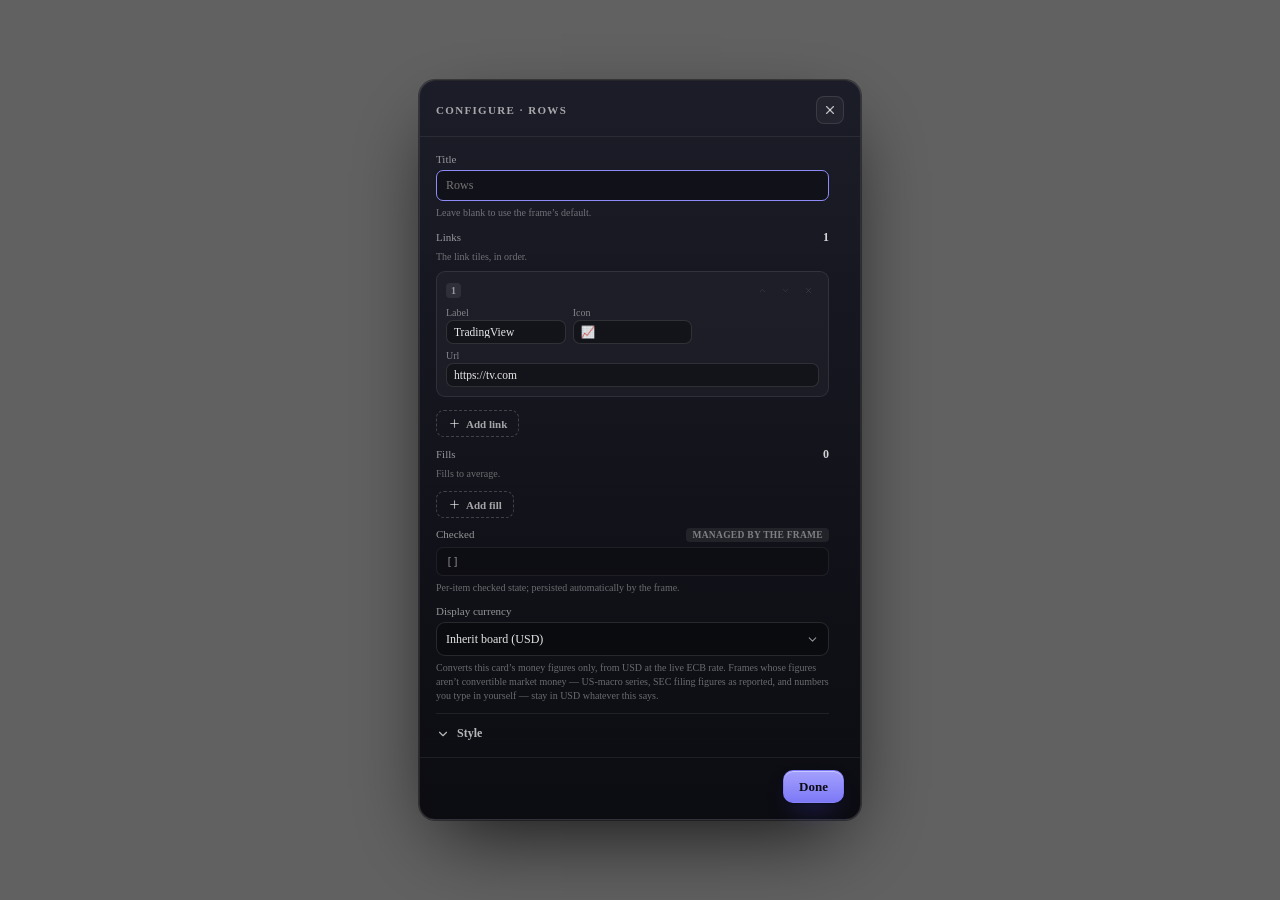
Test: per-field validation messages › reports a nested row issue on the row editor that owns it
Clear the field with id "zf-cfg-links-0-label": x=506, y=332 [446,320,566,344]
Wait 200 ms
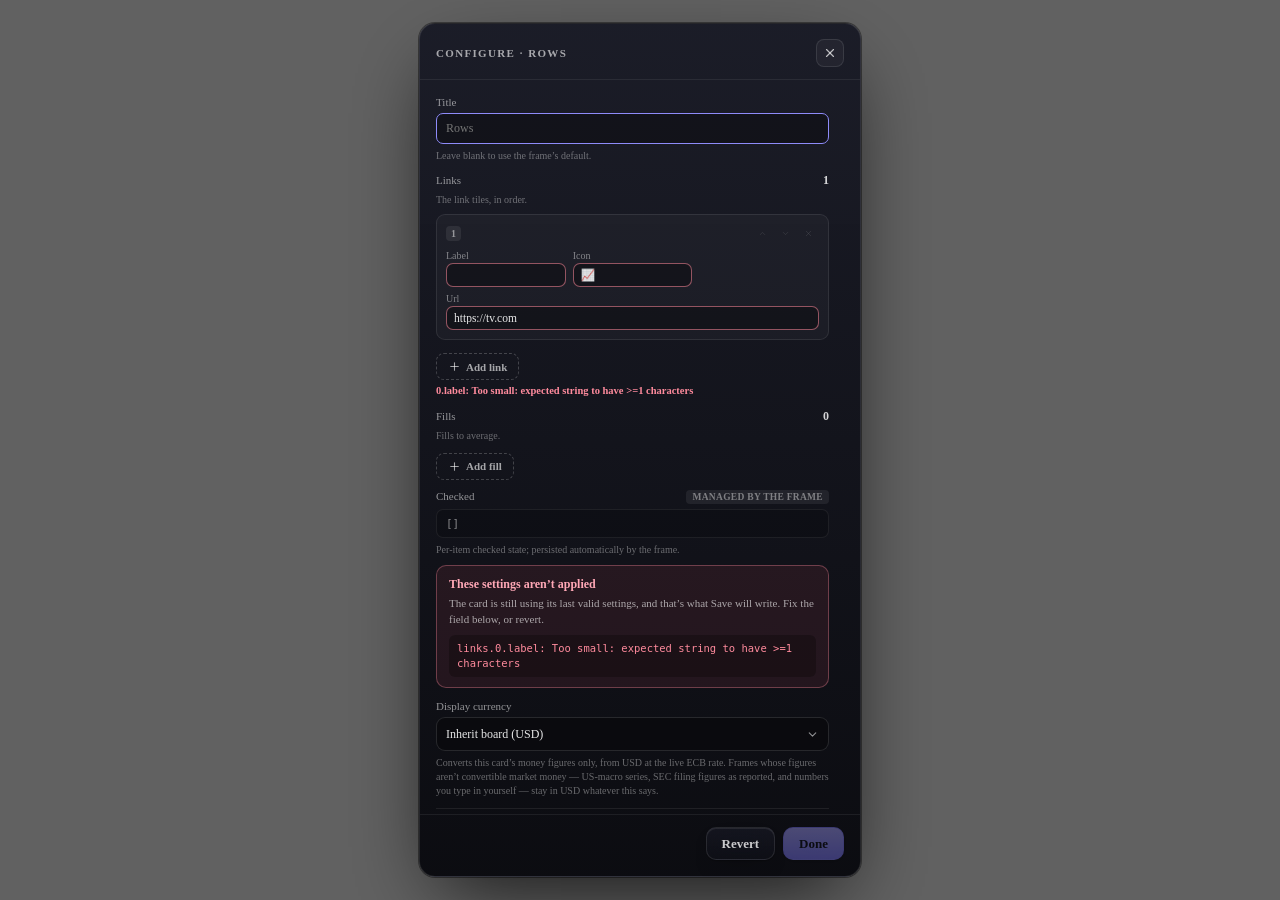
expect the text with id "zf-cfg-links-error" shows "0.label": met, box [436,385,693,396]
